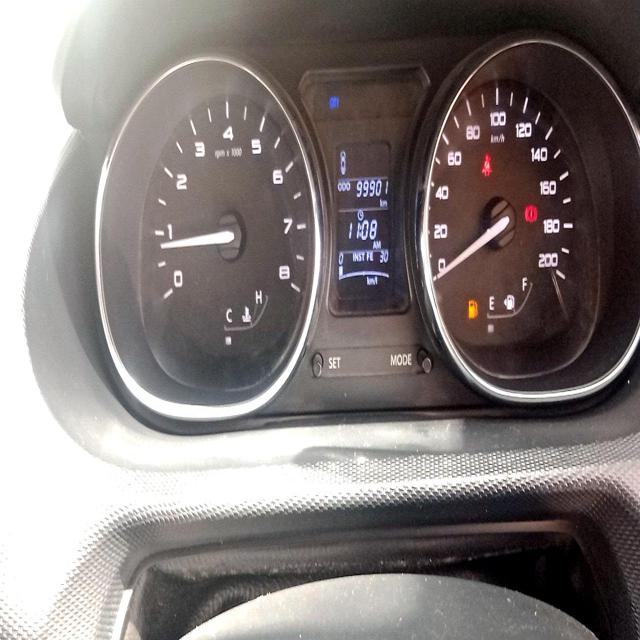odometer: (354, 176, 391, 200)
